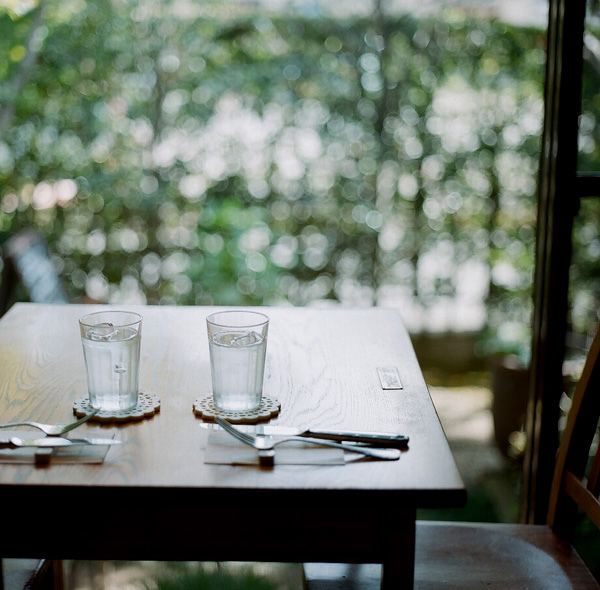glass of water: (77, 315, 143, 412), (206, 313, 267, 411)
